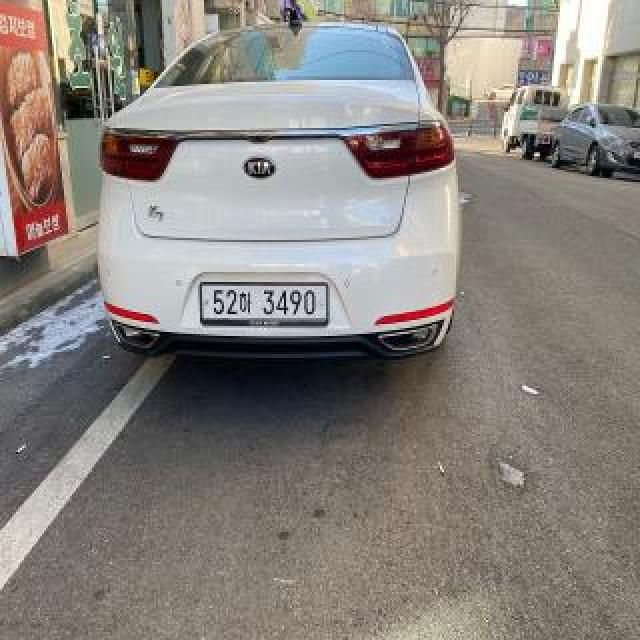car: (94, 16, 462, 364)
illegal_plate: (200, 275, 332, 330)
